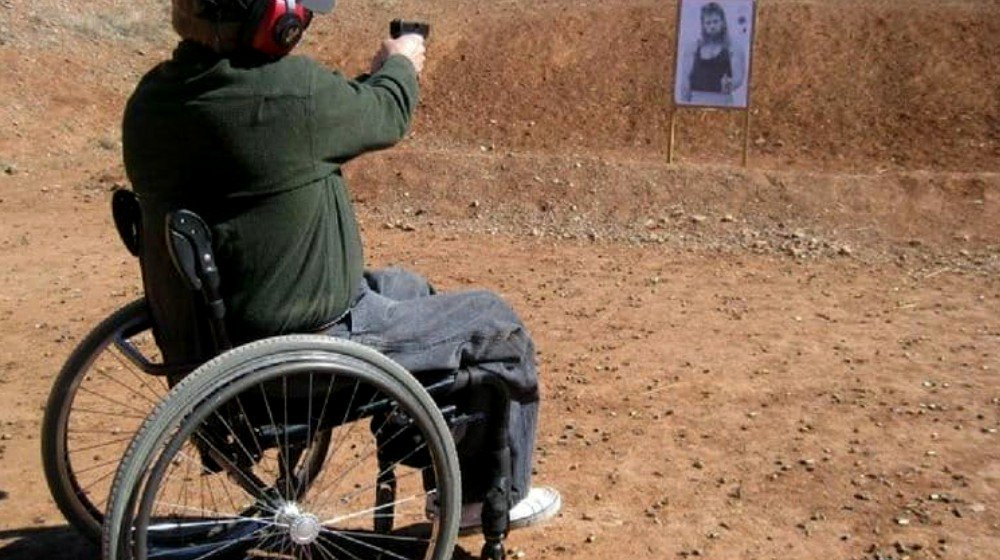Gun: (379, 9, 452, 50)
